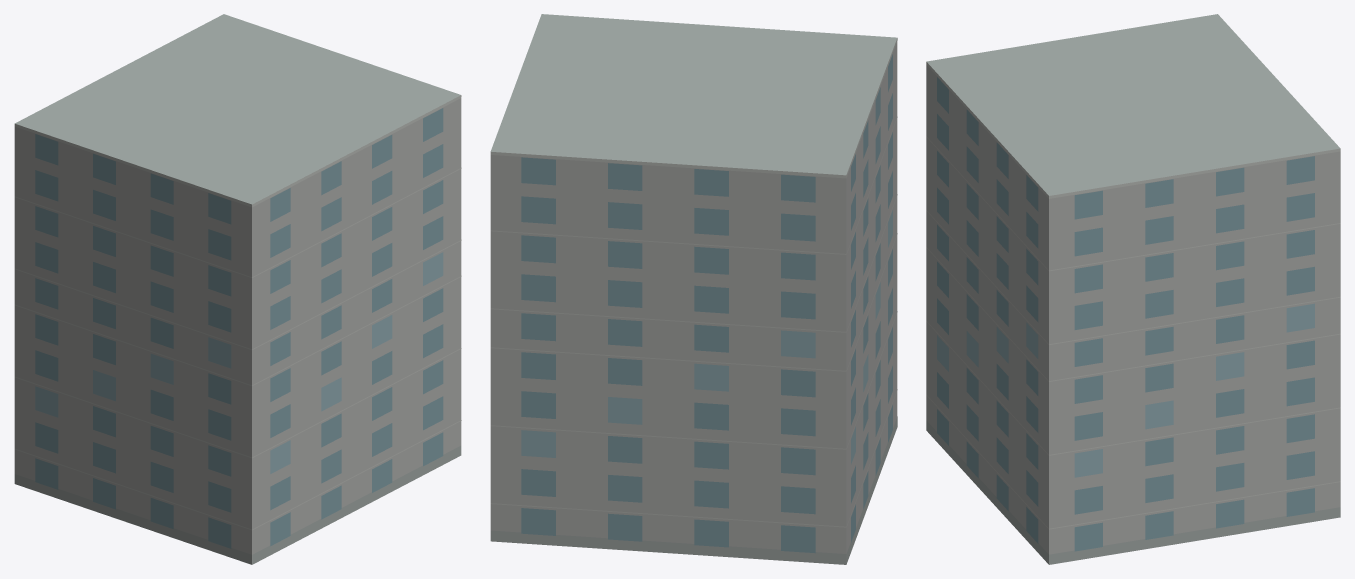
The model's file is residential-c3baae77-c658-49cd-a1f6-f7fa2fe6a71d.glb.
The picture shows the model from 3 angles, left to right: view 1: azimuth 30°, elevation 25°; view 2: azimuth 150°, elevation 25°; view 3: azimuth 270°, elevation 25°; orthographic projection. The views are drawn at different scales.
Visible parts, largest first — view 1: residential-c3baae77-c658-49cd-a1f6-f7fa2fe6a71d.tmp; view 2: residential-c3baae77-c658-49cd-a1f6-f7fa2fe6a71d.tmp; view 3: residential-c3baae77-c658-49cd-a1f6-f7fa2fe6a71d.tmp.
Part boxes in pixels (<box>): residential-c3baae77-c658-49cd-a1f6-f7fa2fe6a71d.tmp: <box>14,14,461,564</box>; residential-c3baae77-c658-49cd-a1f6-f7fa2fe6a71d.tmp: <box>490,14,897,564</box>; residential-c3baae77-c658-49cd-a1f6-f7fa2fe6a71d.tmp: <box>926,14,1340,564</box>.
Bounding box in the file's own units: 32.29 × 30.5 × 31.06.
